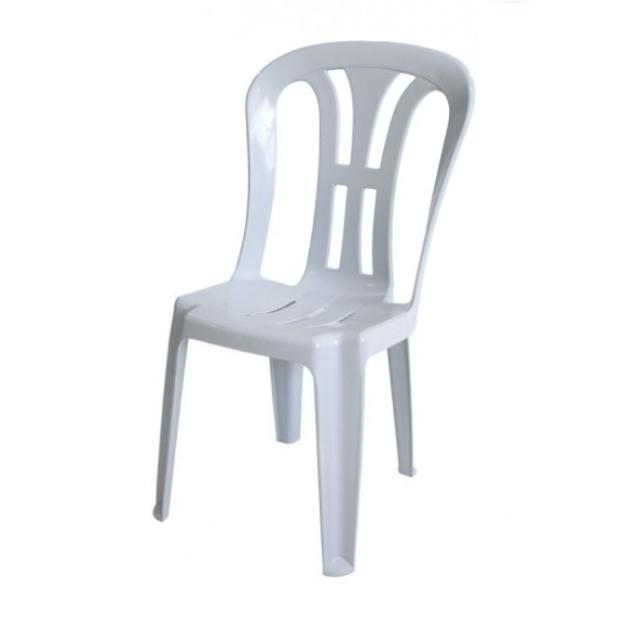chair: (142, 40, 482, 584)
